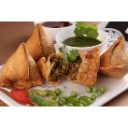samosa: (2, 43, 40, 88), (104, 37, 128, 79), (28, 23, 54, 59)
